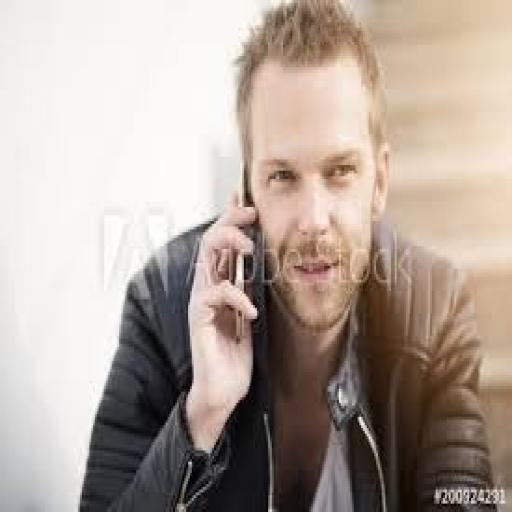calling: (76, 0, 503, 509)
